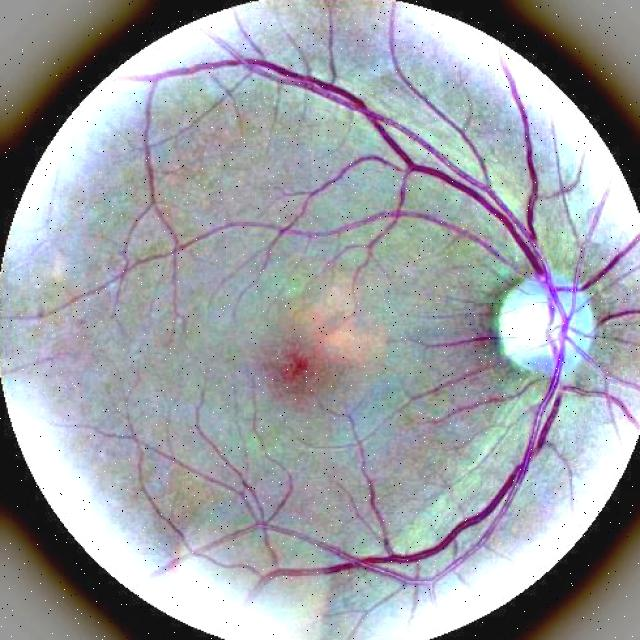Macula: (249, 301, 348, 416)
Nerves: (306, 289, 584, 614), (240, 62, 561, 290)
Optic Disk: (463, 253, 612, 403)
